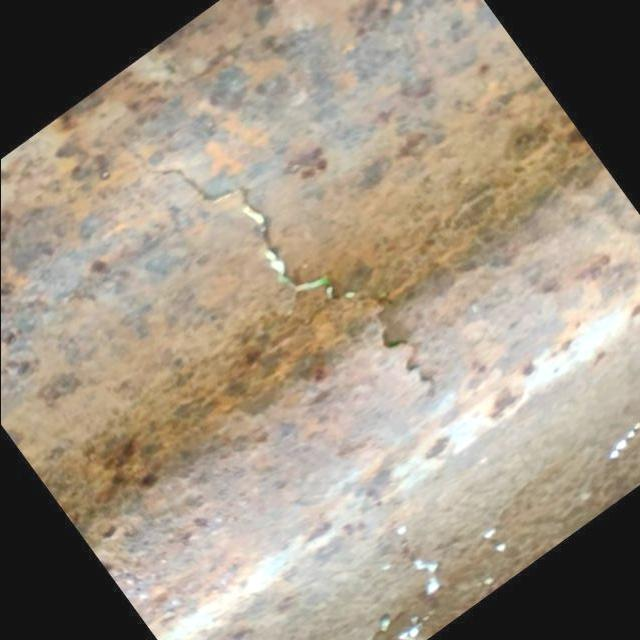defect: (95, 134, 442, 410)
